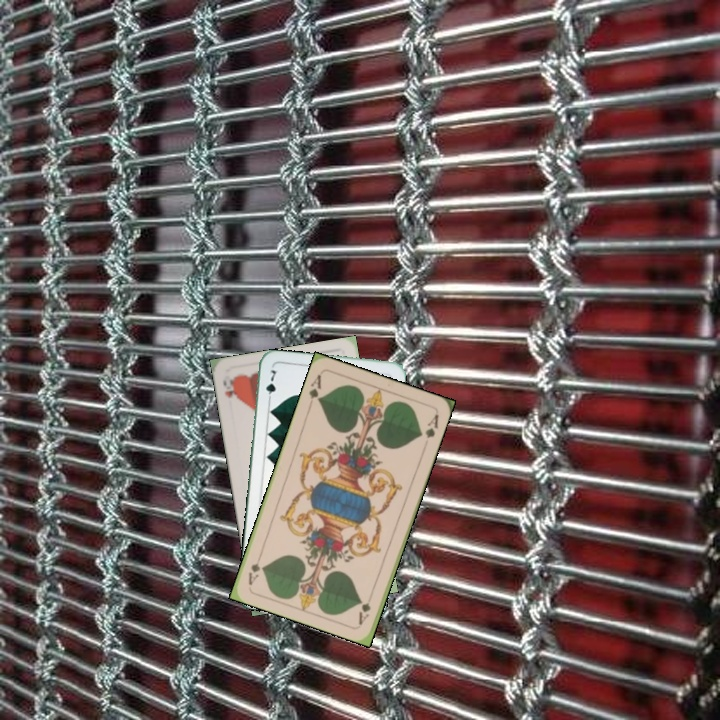G7: (262, 366, 279, 405)
GA: (355, 588, 376, 627), (305, 370, 324, 409)
HO: (219, 372, 239, 403)
